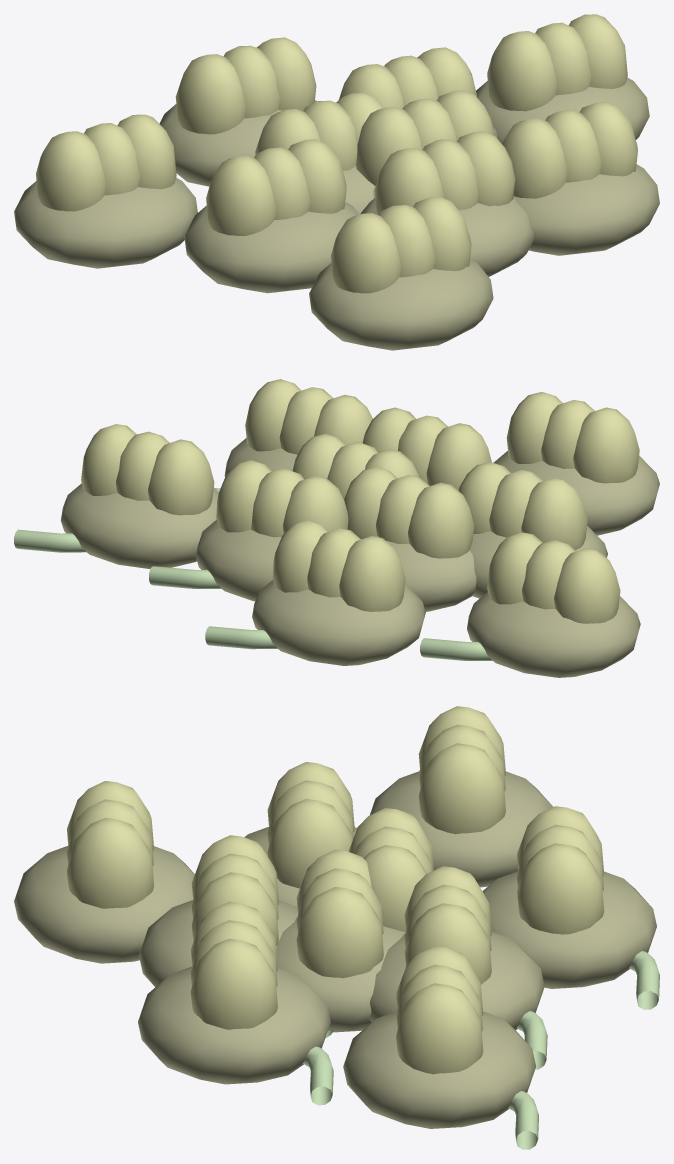
The model's file is bio_acid_mat_01_far.glb.
The picture shows the model from 3 angles, top to bottom: view 1: azimuth 30°, elevation 25°; view 2: azimuth 150°, elevation 25°; view 3: azimuth 270°, elevation 25°; orthographic projection. The views are drawn at different scales.
Visible parts, largest first — view 1: Microbial cushion.007, Microbial cushion.009, Reaction vesicle.024, Reaction vesicle.027, Reaction vesicle.012, Reaction vesicle.021, Reaction vesicle.018, Microbial cushion.004, Reaction vesicle.015, Microbial cushion.005, Reaction vesicle.006, Reaction vesicle (+6 smaller); view 2: Microbial cushion.009, Microbial cushion.006, Reaction vesicle.018, Reaction vesicle.024, Reaction vesicle.027, Reaction vesicle.021, Reaction vesicle.003, Microbial cushion.008, Reaction vesicle.012, Reaction vesicle.009, Reaction vesicle.015, Reaction vesicle.006 (+10 smaller); view 3: Microbial cushion.008, Microbial cushion.005, Microbial cushion.007, Microbial cushion.006, Reaction vesicle.024, Reaction vesicle.027, Reaction vesicle.015, Reaction vesicle.018, Reaction vesicle.021, Reaction vesicle, Reaction vesicle.012, Microbial cushion.009 (+11 smaller).
Part boxes in pixels (bbox=[...]): Microbial cushion.007: bbox=[309, 259, 493, 350]; Microbial cushion.009: bbox=[14, 177, 197, 268]; Reaction vesicle.024: bbox=[487, 14, 627, 111]; Reaction vesicle.027: bbox=[36, 114, 176, 211]; Reaction vesicle.012: bbox=[206, 139, 346, 235]; Reaction vesicle.021: bbox=[331, 196, 471, 293]; Reaction vesicle.018: bbox=[175, 37, 316, 134]; Microbial cushion.004: bbox=[184, 202, 359, 293]; Reaction vesicle.015: bbox=[502, 101, 637, 198]; Microbial cushion.005: bbox=[513, 164, 659, 255]; Reaction vesicle.006: bbox=[374, 131, 515, 215]; Reaction vesicle: bbox=[356, 90, 494, 185]; Microbial cushion.009: bbox=[467, 592, 640, 677]; Microbial cushion.006: bbox=[252, 580, 425, 665]; Reaction vesicle.018: bbox=[272, 520, 405, 611]; Reaction vesicle.024: bbox=[81, 424, 214, 515]; Reaction vesicle.027: bbox=[487, 532, 620, 623]; Reaction vesicle.021: bbox=[506, 392, 639, 483]; Reaction vesicle.003: bbox=[344, 467, 474, 558]; Microbial cushion.008: bbox=[61, 483, 218, 568]; Reaction vesicle.012: bbox=[458, 462, 587, 550]; Reaction vesicle.009: bbox=[216, 460, 348, 537]; Reaction vesicle.015: bbox=[245, 379, 372, 454]; Reaction vesicle.006: bbox=[362, 407, 491, 490]; Microbial cushion.008: bbox=[343, 1011, 535, 1128]; Microbial cushion.005: bbox=[138, 966, 330, 1084]; Microbial cushion.007: bbox=[14, 846, 194, 963]; Microbial cushion.006: bbox=[482, 871, 656, 988]; Reaction vesicle.024: bbox=[396, 946, 483, 1074]; Reaction vesicle.027: bbox=[418, 706, 505, 834]; Reaction vesicle.015: bbox=[190, 901, 277, 1029]; Reaction vesicle.018: bbox=[517, 806, 604, 934]; Reaction vesicle.021: bbox=[67, 781, 153, 908]; Reaction vesicle: bbox=[296, 850, 383, 978]; Reaction vesicle.012: bbox=[267, 762, 354, 888]; Microbial cushion.009: bbox=[370, 771, 552, 887].
Bounding box in the file's own units: 1.83 × 0.3598 × 1.47.
